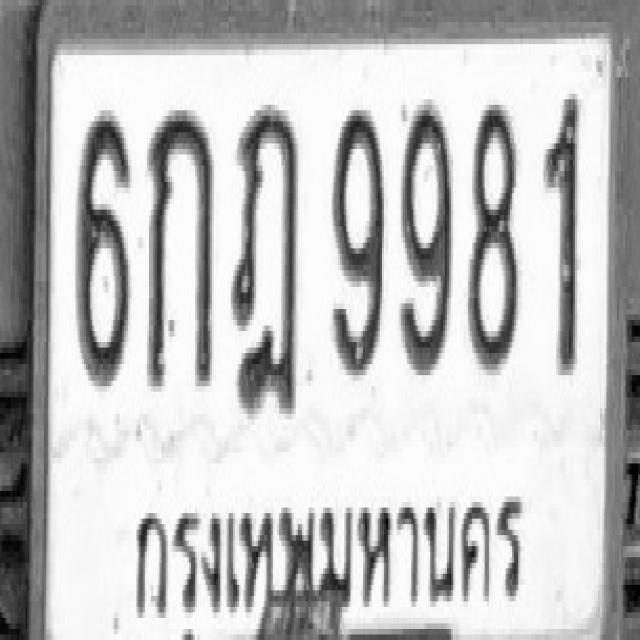1: (543, 91, 578, 372)
10GorGai: (146, 105, 213, 386)
23DorChaDa: (231, 99, 298, 414)
6: (77, 108, 129, 384)
8: (467, 99, 517, 370)
9: (332, 105, 384, 375), (399, 102, 451, 372)
Bangkok: (125, 469, 535, 626)
